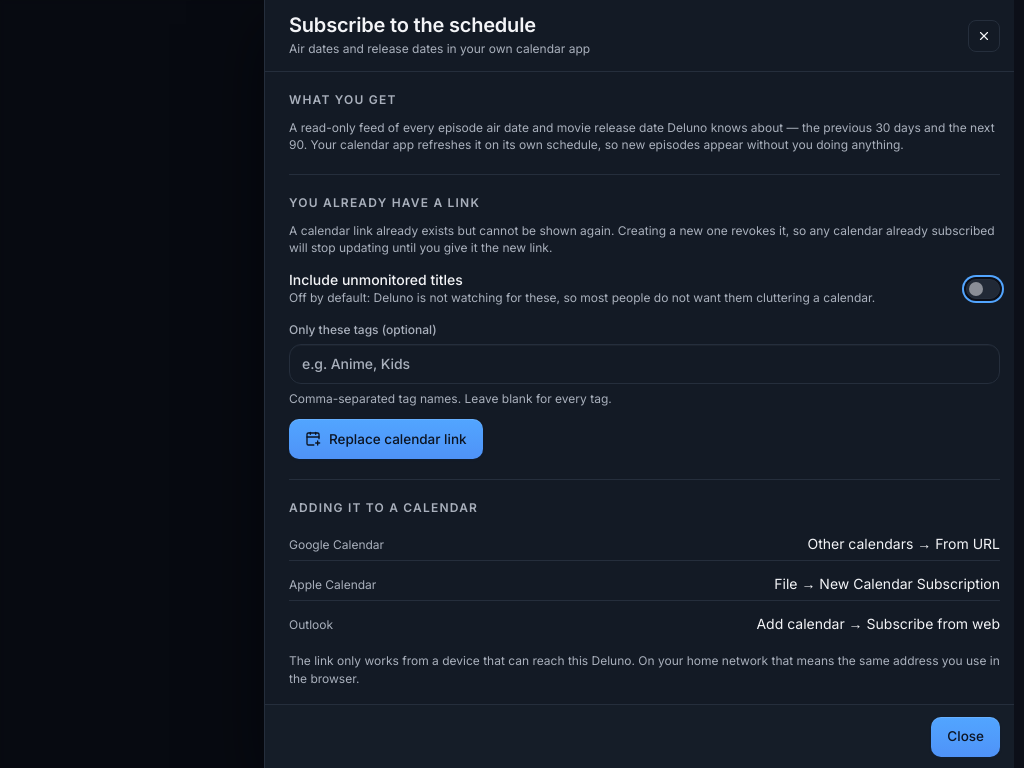
CalendarSubscribeDrawer link lifecycle › says a link already exists, and revokes it before making the replacement
Expected: the text "A calendar link already exists but cannot be shown again" is shown, [289, 223, 995, 255]
Click the button "Replace calendar link": (386, 439) [289, 419, 483, 459]
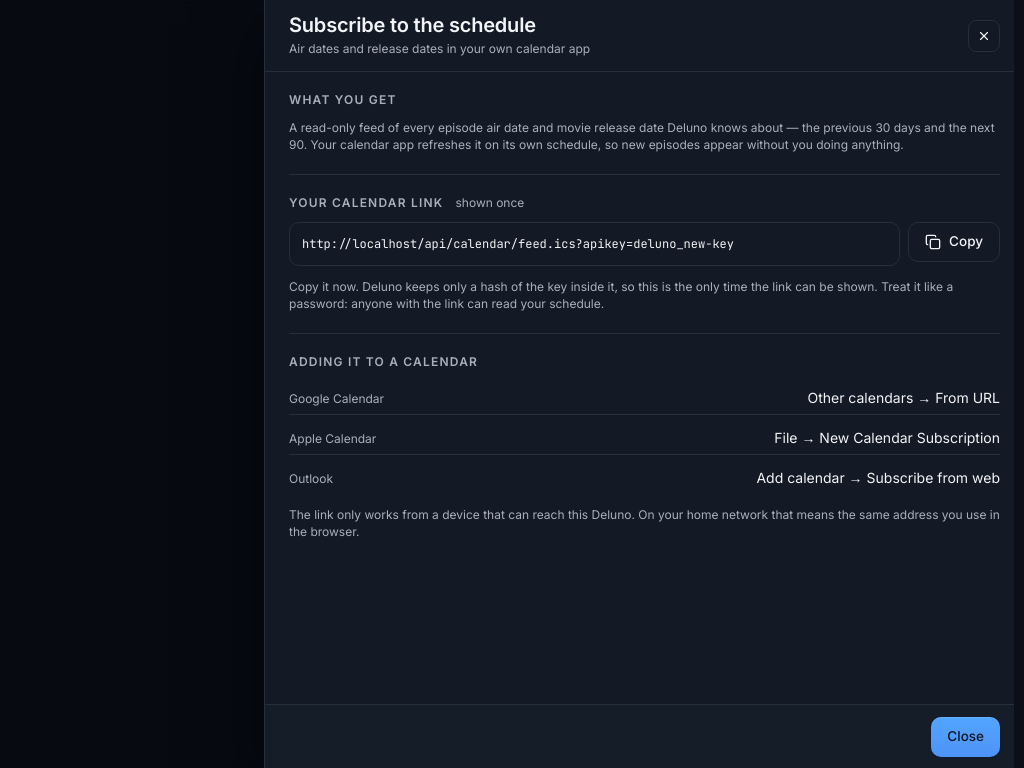
Result: the text "http://localhost/api/calendar/feed.ics?apikey=deluno_new-key" is shown at [289, 222, 900, 266]
